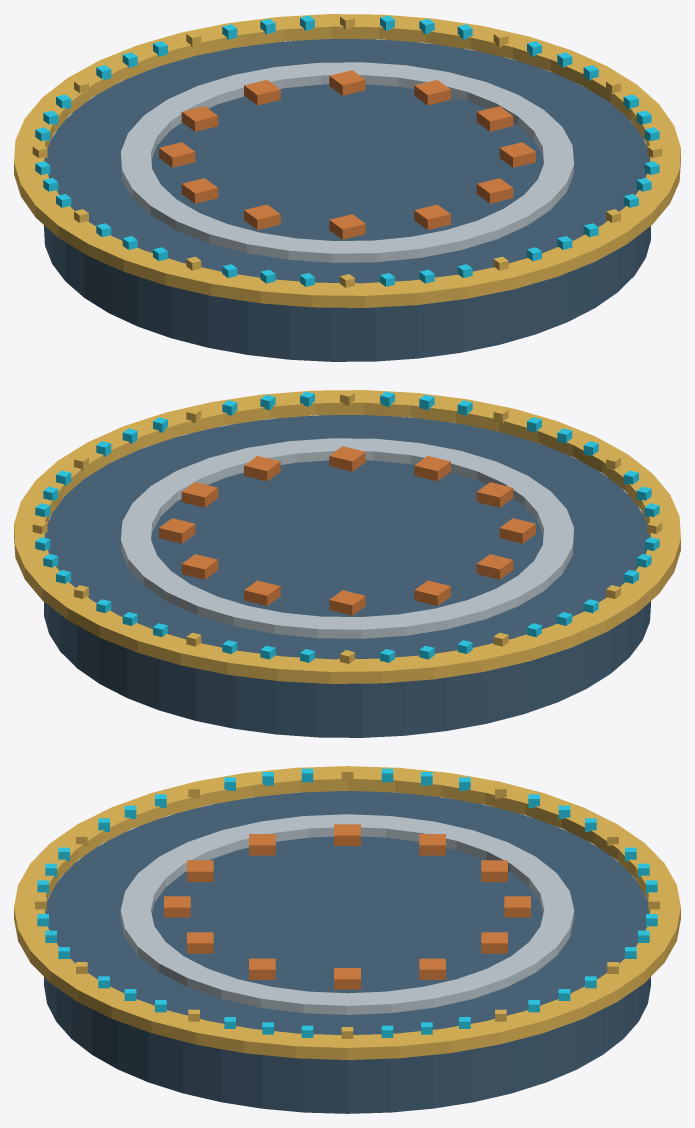
File: 21_L79_ThetaMicroRotationStage.fbx
The picture shows the model from 3 angles, top to bottom: view 1: azimuth 30°, elevation 25°; view 2: azimuth 150°, elevation 25°; view 3: azimuth 270°, elevation 25°; orthographic projection.
Visible parts, largest first — view 1: ThetaMicroRotationStage, ThetaMicroRotationStage_Part_0051, ThetaMicroRotationStage_Part_0052, ThetaMicroRotationStage_Part_0054, ThetaMicroRotationStage_Part_0058, ThetaMicroRotationStage_Part_0060, ThetaMicroRotationStage_Part_0062, ThetaMicroRotationStage_Part_0056, ThetaMicroRotationStage_Part_0053, ThetaMicroRotationStage_Part_0057, ThetaMicroRotationStage_Part_0063, ThetaMicroRotationStage_Part_0059 (+2 smaller); view 2: ThetaMicroRotationStage, ThetaMicroRotationStage_Part_0051, ThetaMicroRotationStage_Part_0052, ThetaMicroRotationStage_Part_0056, ThetaMicroRotationStage_Part_0058, ThetaMicroRotationStage_Part_0062, ThetaMicroRotationStage_Part_0054, ThetaMicroRotationStage_Part_0060, ThetaMicroRotationStage_Part_0053, ThetaMicroRotationStage_Part_0059, ThetaMicroRotationStage_Part_0063, ThetaMicroRotationStage_Part_0057 (+2 smaller); view 3: ThetaMicroRotationStage, ThetaMicroRotationStage_Part_0051, ThetaMicroRotationStage_Part_0052, ThetaMicroRotationStage_Part_0053, ThetaMicroRotationStage_Part_0054, ThetaMicroRotationStage_Part_0055, ThetaMicroRotationStage_Part_0056, ThetaMicroRotationStage_Part_0057, ThetaMicroRotationStage_Part_0058, ThetaMicroRotationStage_Part_0059, ThetaMicroRotationStage_Part_0060, ThetaMicroRotationStage_Part_0061 (+2 smaller).
Part boxes in pixels (x1,y1,x2,y2): ThetaMicroRotationStage: [14, 14, 680, 361]; ThetaMicroRotationStage_Part_0051: [121, 62, 573, 262]; ThetaMicroRotationStage_Part_0052: [476, 106, 513, 131]; ThetaMicroRotationStage_Part_0054: [476, 178, 513, 203]; ThetaMicroRotationStage_Part_0058: [181, 178, 218, 203]; ThetaMicroRotationStage_Part_0060: [181, 106, 218, 131]; ThetaMicroRotationStage_Part_0062: [329, 70, 365, 95]; ThetaMicroRotationStage_Part_0056: [329, 214, 365, 239]; ThetaMicroRotationStage_Part_0053: [499, 142, 535, 167]; ThetaMicroRotationStage_Part_0057: [244, 204, 280, 229]; ThetaMicroRotationStage_Part_0063: [414, 80, 450, 105]; ThetaMicroRotationStage_Part_0059: [159, 142, 195, 167]; ThetaMicroRotationStage: [14, 390, 680, 737]; ThetaMicroRotationStage_Part_0051: [121, 438, 573, 638]; ThetaMicroRotationStage_Part_0052: [181, 482, 218, 507]; ThetaMicroRotationStage_Part_0056: [476, 482, 513, 507]; ThetaMicroRotationStage_Part_0058: [476, 554, 513, 579]; ThetaMicroRotationStage_Part_0062: [181, 554, 218, 579]; ThetaMicroRotationStage_Part_0054: [329, 446, 365, 471]; ThetaMicroRotationStage_Part_0060: [329, 590, 365, 615]; ThetaMicroRotationStage_Part_0053: [244, 456, 280, 481]; ThetaMicroRotationStage_Part_0059: [414, 580, 450, 605]; ThetaMicroRotationStage_Part_0063: [159, 518, 195, 543]; ThetaMicroRotationStage_Part_0057: [499, 518, 535, 543]; ThetaMicroRotationStage: [14, 766, 680, 1113]; ThetaMicroRotationStage_Part_0051: [120, 814, 574, 1014]; ThetaMicroRotationStage_Part_0052: [334, 968, 360, 989]; ThetaMicroRotationStage_Part_0053: [249, 958, 275, 979]; ThetaMicroRotationStage_Part_0054: [187, 932, 213, 953]; ThetaMicroRotationStage_Part_0055: [164, 896, 190, 917]; ThetaMicroRotationStage_Part_0056: [187, 860, 213, 881]; ThetaMicroRotationStage_Part_0057: [249, 834, 275, 855]; ThetaMicroRotationStage_Part_0058: [334, 824, 360, 845]; ThetaMicroRotationStage_Part_0059: [419, 834, 445, 855]; ThetaMicroRotationStage_Part_0060: [481, 860, 507, 881]; ThetaMicroRotationStage_Part_0061: [504, 896, 530, 917].
Size of the model in its own units: 200 by 28.5 by 200.
